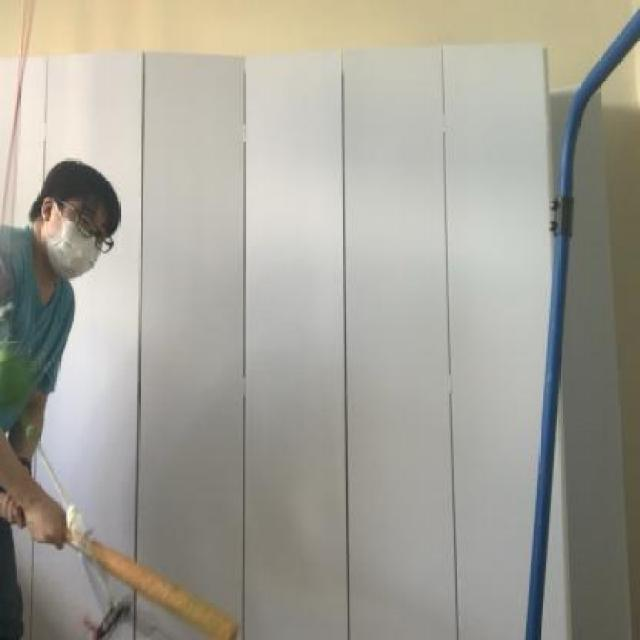baseball: (0, 327, 38, 412)
